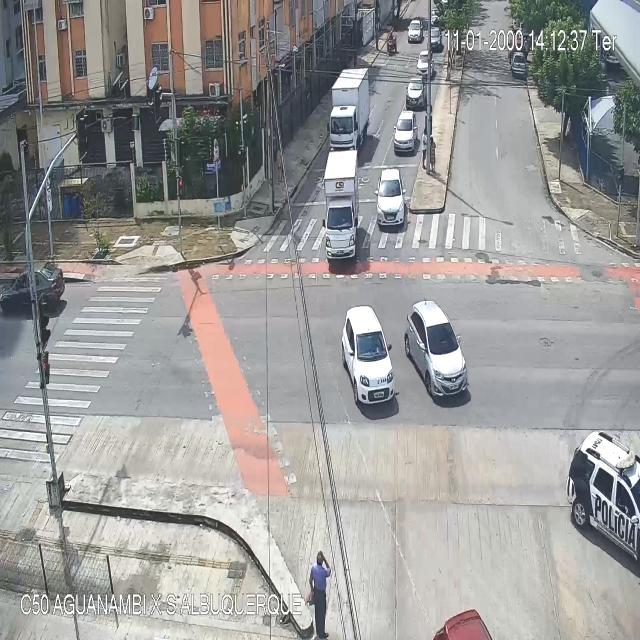Car: (565, 427, 640, 561), (406, 298, 468, 401), (0, 250, 75, 324), (342, 305, 396, 407), (375, 168, 406, 229), (394, 112, 417, 150), (407, 74, 426, 105), (408, 18, 421, 44), (428, 26, 442, 50), (417, 52, 431, 74), (511, 54, 525, 76)
Motorcycle: (387, 31, 396, 56)
Truck: (323, 147, 360, 268), (327, 68, 369, 152)
